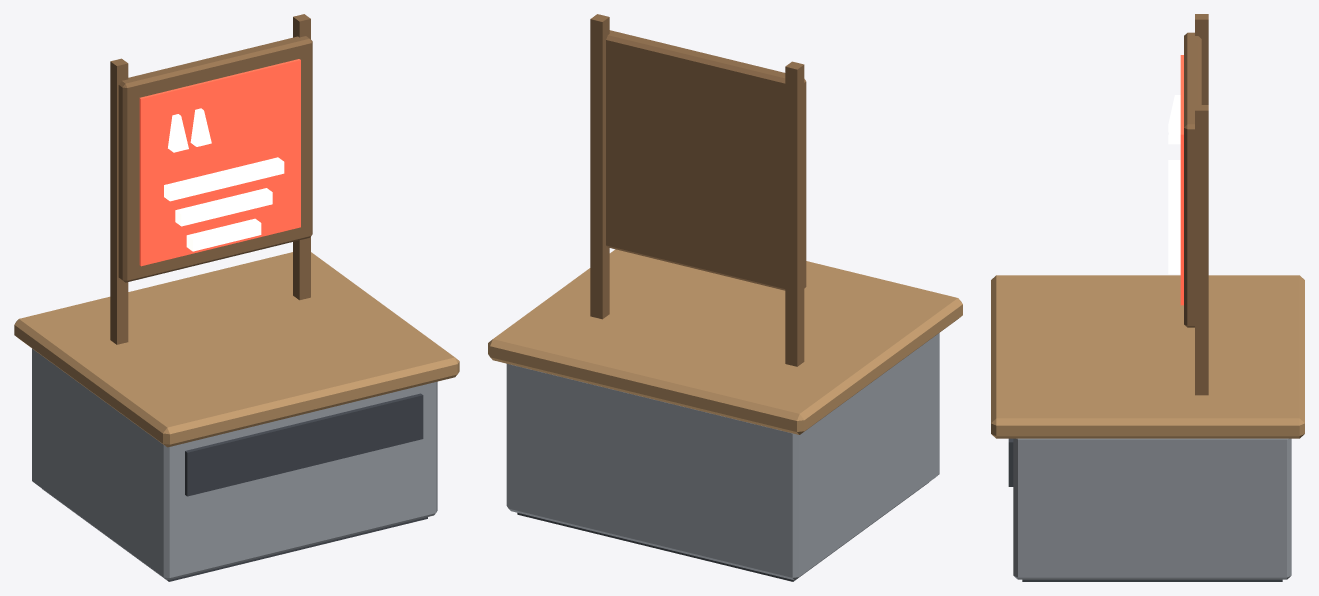
The model's file is poster_p1_3.glb.
3 views of the same model, side by side, from view 1: azimuth 30°, elevation 25°; view 2: azimuth 150°, elevation 25°; view 3: azimuth 270°, elevation 25° (orthographic). The views are drawn at different scales.
Parts seen in each view (by area): view 1: poster_p1_3_mesh_Desk, poster_p1_3_mesh; view 2: poster_p1_3_mesh_Desk, poster_p1_3_mesh; view 3: poster_p1_3_mesh_Desk, poster_p1_3_mesh.
Boxes of the visible parts, bbox=[...] form: poster_p1_3_mesh_Desk: bbox=[14, 252, 459, 581]; poster_p1_3_mesh: bbox=[110, 14, 312, 344]; poster_p1_3_mesh_Desk: bbox=[488, 249, 962, 581]; poster_p1_3_mesh: bbox=[590, 14, 806, 366]; poster_p1_3_mesh_Desk: bbox=[991, 275, 1304, 581]; poster_p1_3_mesh: bbox=[1168, 14, 1208, 395].
Bounding box in the file's own units: 0.78 × 1.12 × 0.7.
